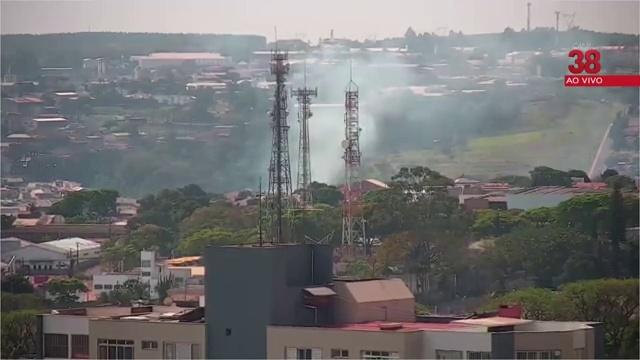smoke: (315, 114, 344, 176)
